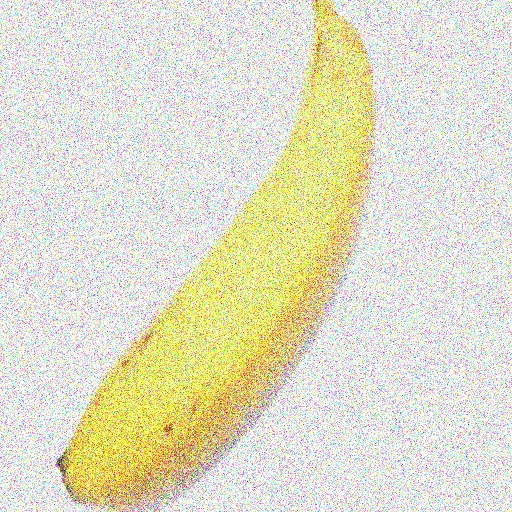fruit: (156, 0, 469, 17)
